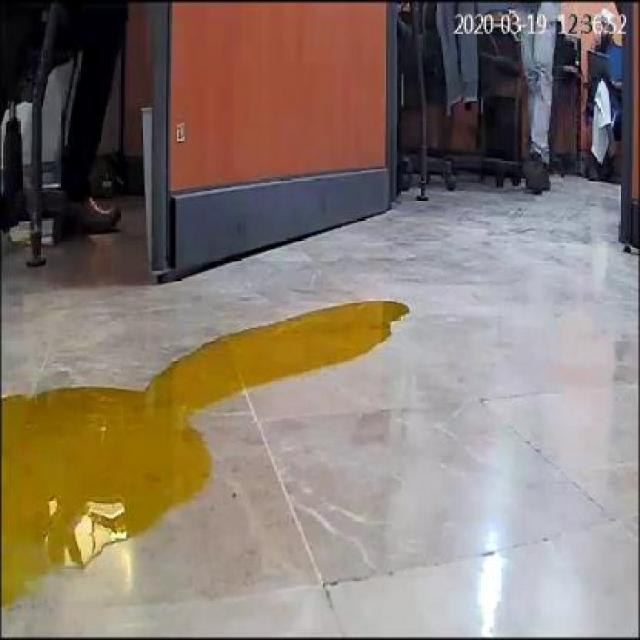spill: (2, 298, 410, 604)
